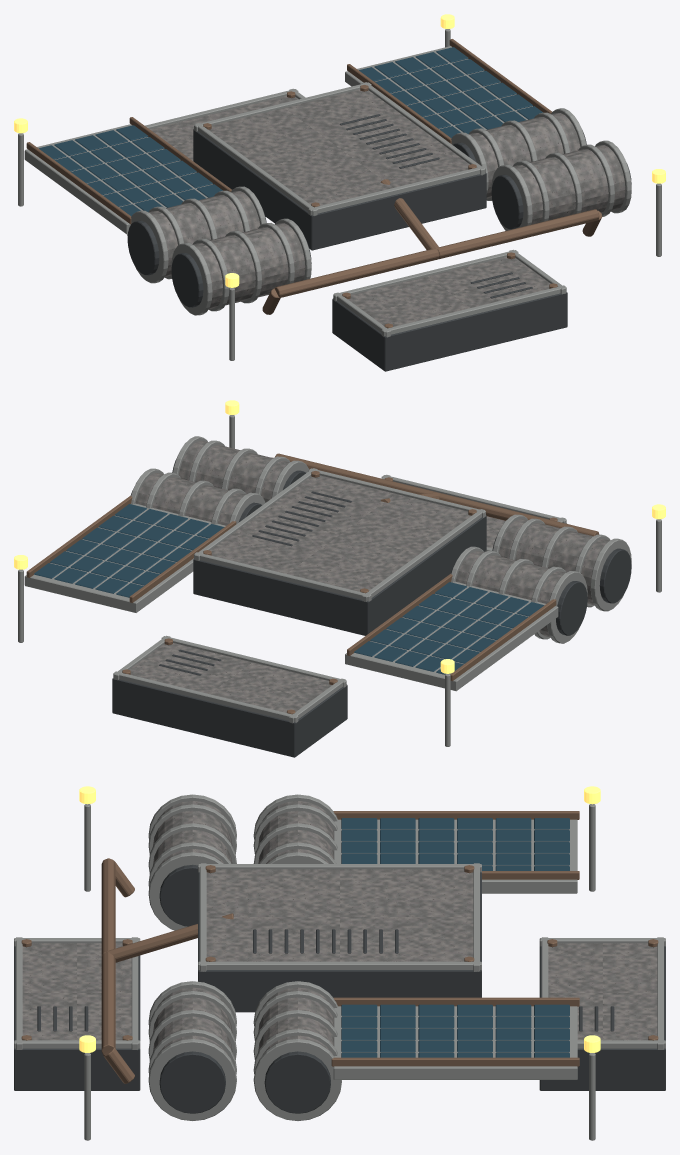
File: landing-base.glb
3 views of the same model, one above another, from view 1: azimuth 30°, elevation 25°; view 2: azimuth 150°, elevation 25°; view 3: azimuth 270°, elevation 25° (orthographic). The views are drawn at different scales.
Visible parts, largest first — view 1: landing-base • editable solid geometry; view 2: landing-base • editable solid geometry; view 3: landing-base • editable solid geometry.
Part boxes in pixels (x1,y1,x2,y2): landing-base • editable solid geometry: (14, 14, 665, 371); landing-base • editable solid geometry: (14, 400, 665, 757); landing-base • editable solid geometry: (14, 786, 665, 1140).
Size of the model in its own units: 5.76 by 1.31 by 6.2.
Materials: 6 (1 with a texture image).
